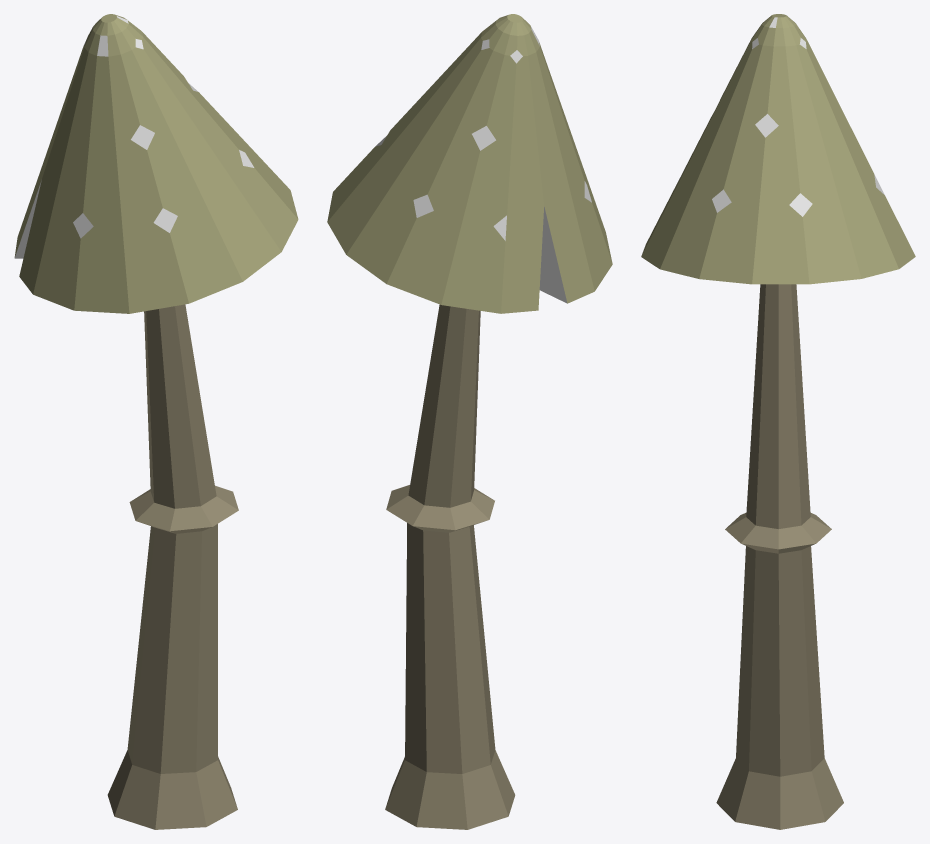
The model's file is mushroom_4.glb.
3 views of the same model, side by side, from view 1: azimuth 30°, elevation 25°; view 2: azimuth 150°, elevation 25°; view 3: azimuth 270°, elevation 25° (orthographic). The views are drawn at different scales.
Visible parts, largest first — view 1: mushroom_4; view 2: mushroom_4; view 3: mushroom_4.
Part boxes in pixels (bbox=[...]): mushroom_4: bbox=[14, 14, 298, 829]; mushroom_4: bbox=[327, 14, 612, 829]; mushroom_4: bbox=[641, 14, 915, 829].
Bounding box in the file's own units: 0.2013 × 0.6289 × 0.2064.
